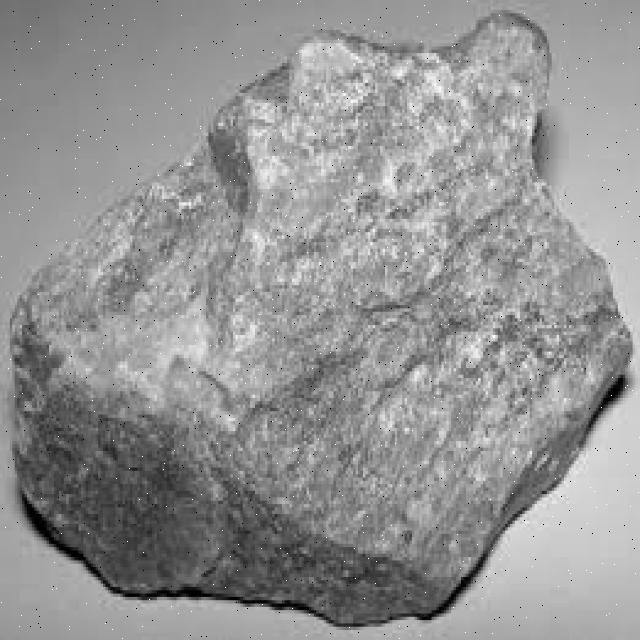Metamorphic: (2, 13, 620, 617)
